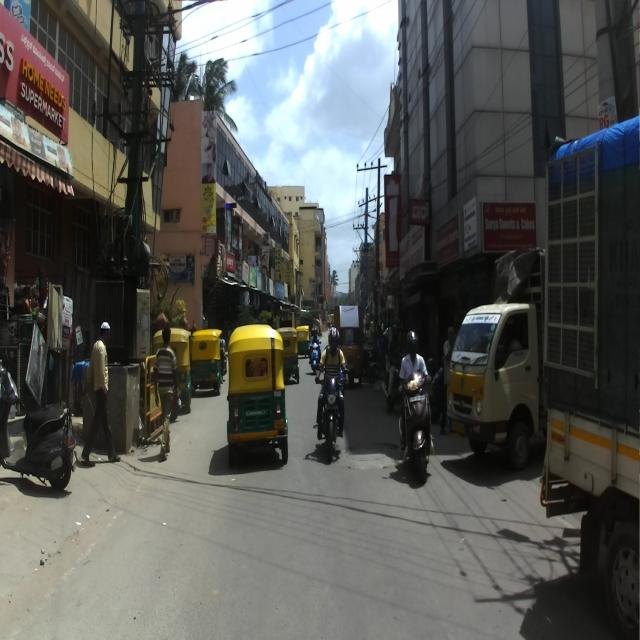autorickshaw: (226, 323, 288, 468)
motorcycle: (314, 364, 350, 464), (381, 346, 406, 411)
scooter: (0, 348, 78, 491), (392, 358, 433, 483)
truck: (446, 245, 557, 470)
